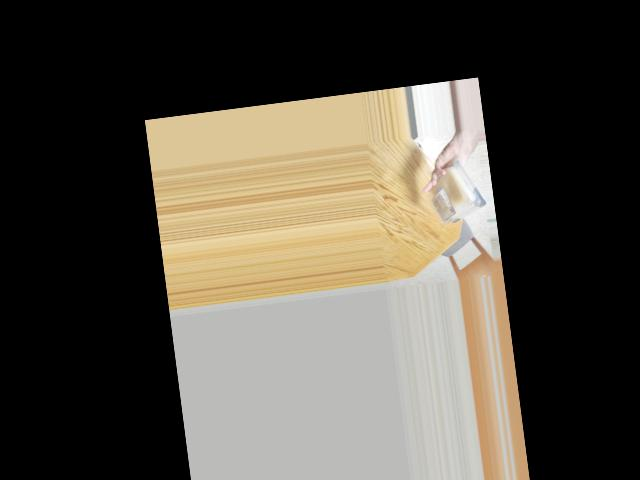cheese: (431, 162, 479, 225)
